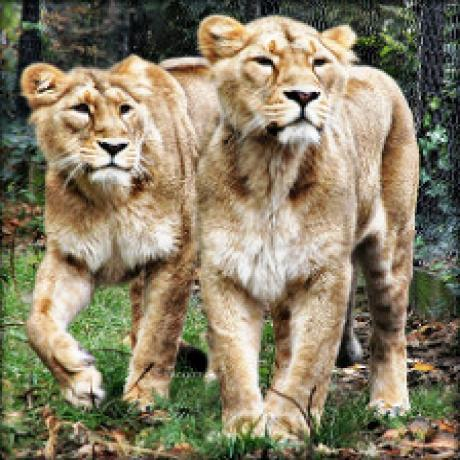Lion: (193, 0, 421, 437), (13, 46, 216, 427)
